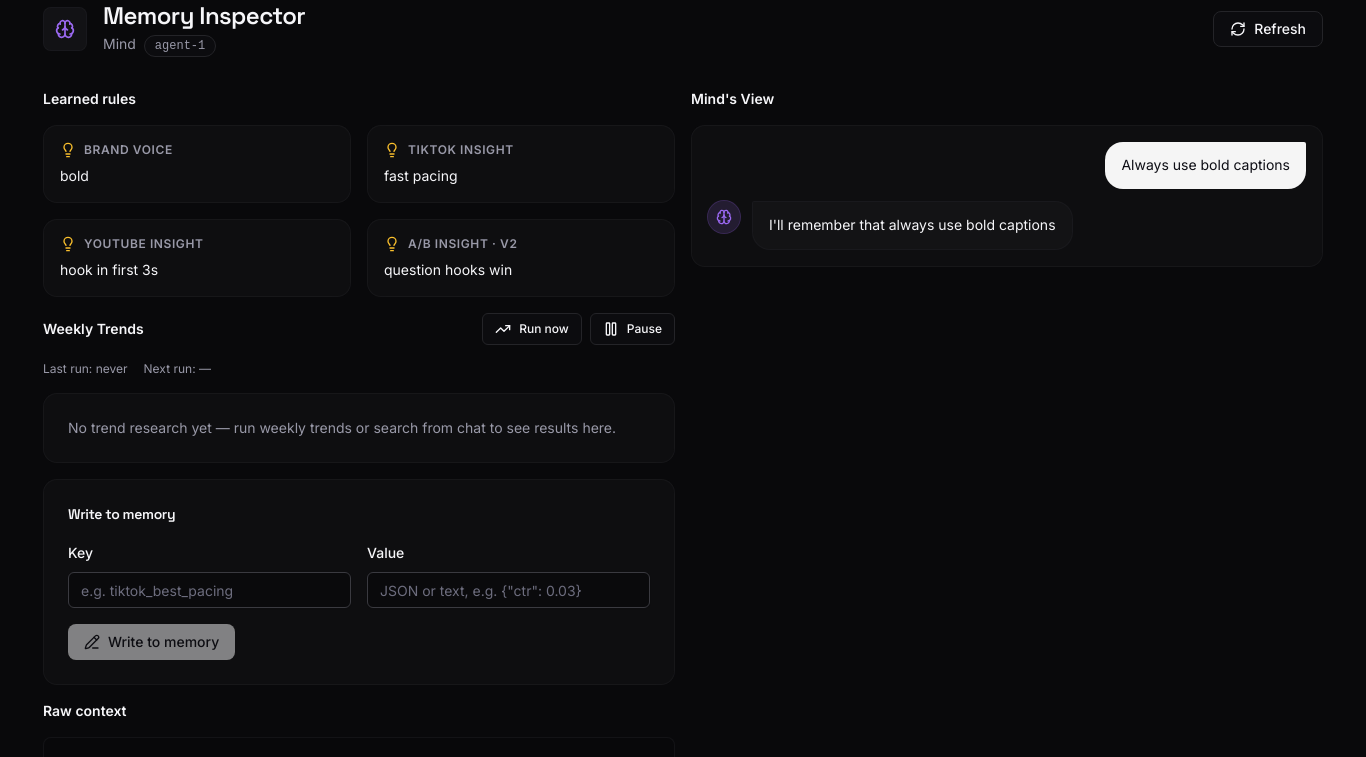
Test: MemoryInspectorPage › writes a key/value to memory and reflects it after re-fetch
The image size is (1366, 757).
Expected: the text "Brand voice" is shown, [84,142,173,158]
Type "tiktok_best_pacing" into the field labelled "Key".
click(210, 590); type("tiktok_best_pacing")  # box [68,572,351,608]
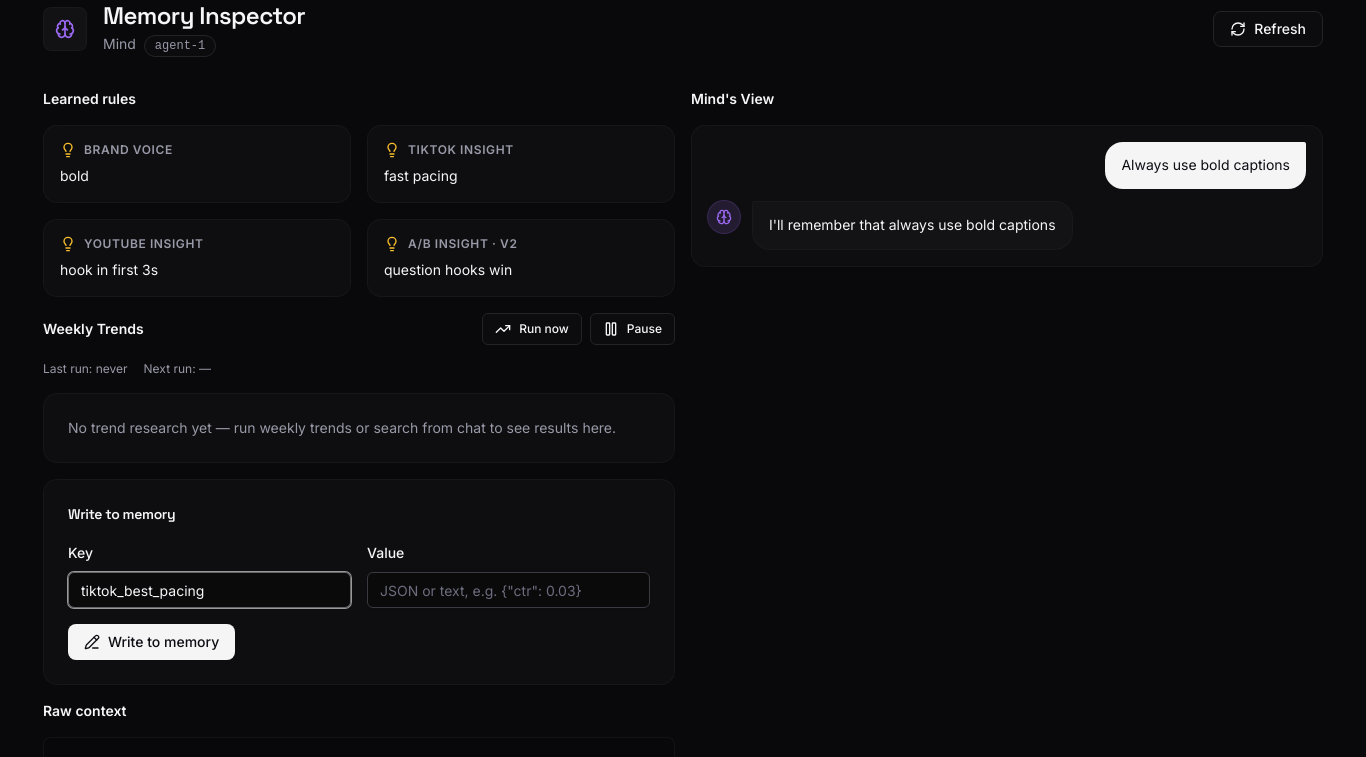
Click the field labelled "Value".
click(508, 590)  # box [367,572,650,608]
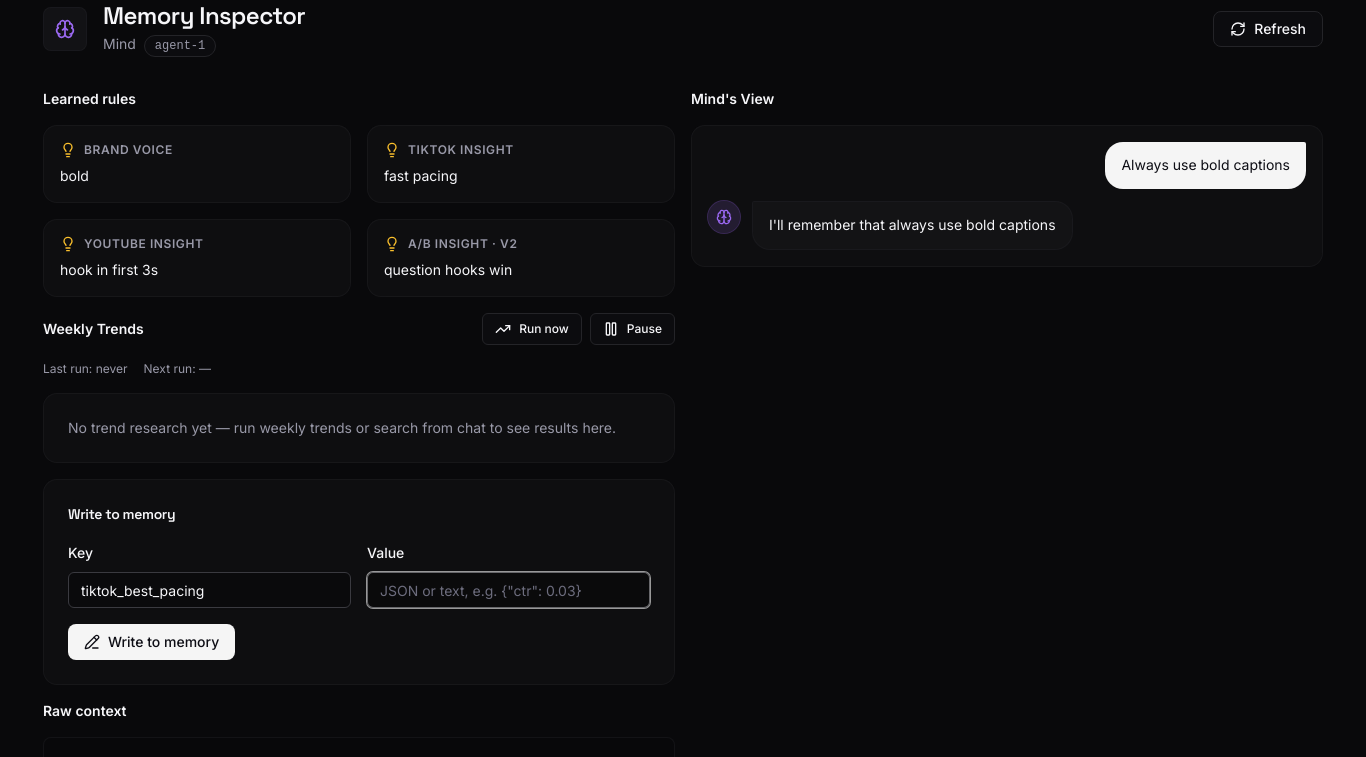
Type keys "{\"ctr\": 0.03}"
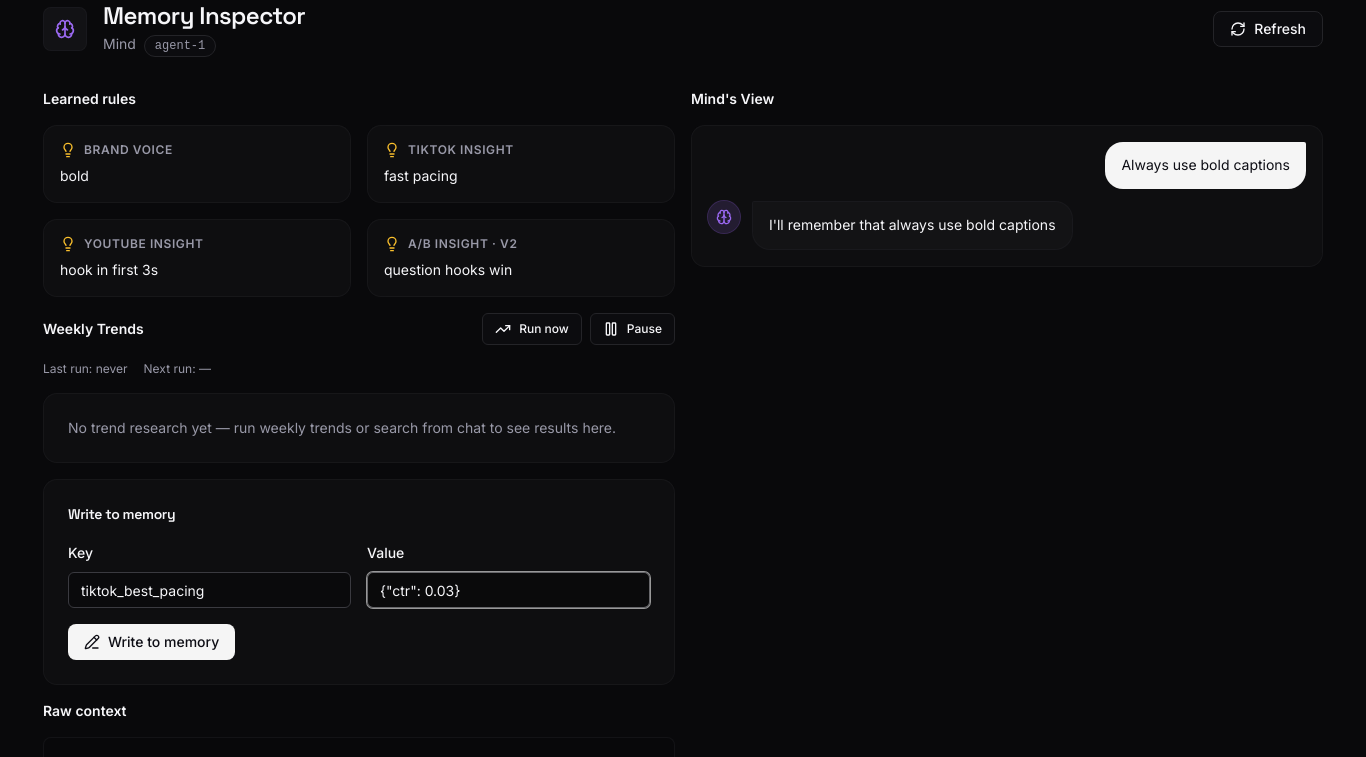
Click the button "Write to memory".
click(152, 642)  # box [68,624,235,660]
(page scrolled)
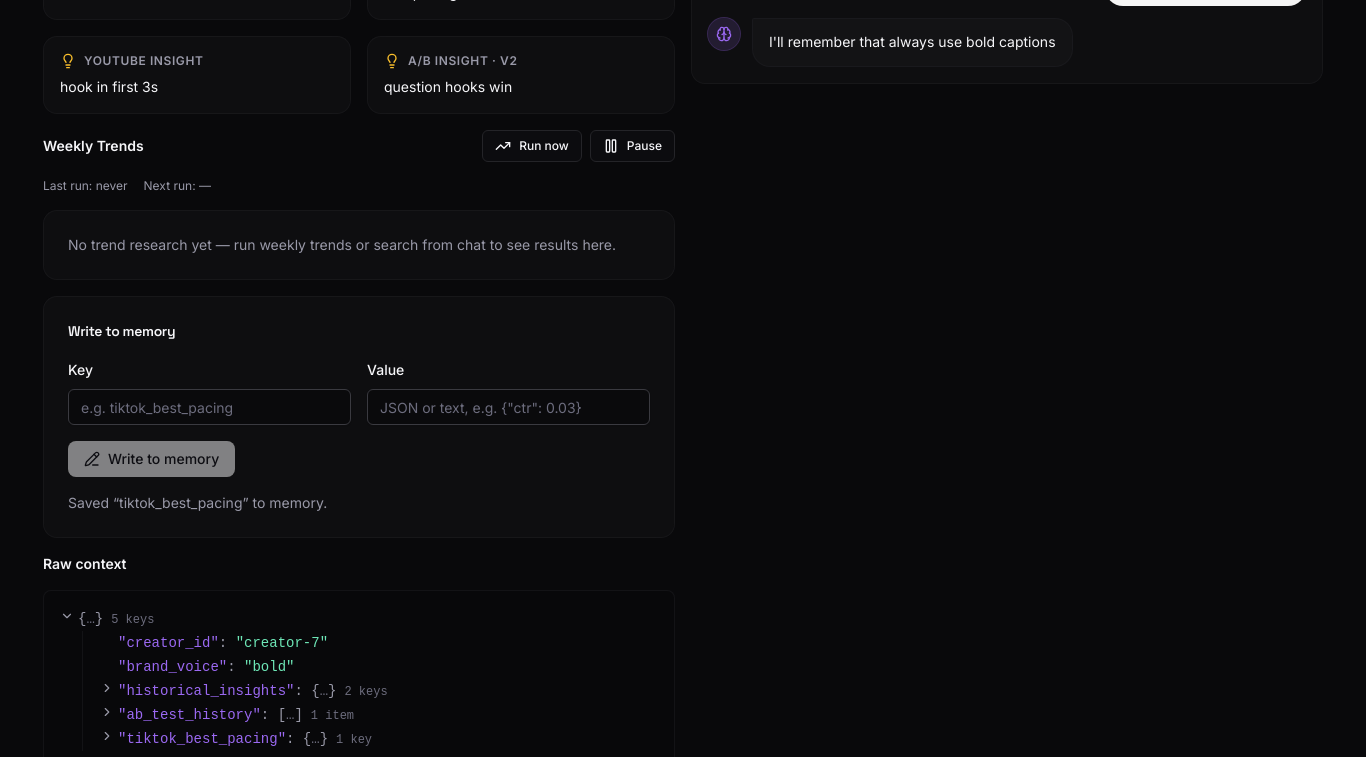
Expected: the text "\"tiktok_best_pacing\"" is shown, [118,731,286,747]
Expected: the text "Saved “tiktok_best_pacing” to memory." is shown, [68,494,327,511]
